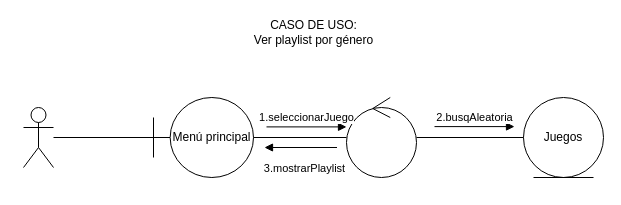
Some shapes in this 621 by 205 pixel diagram are drawn without their labels. Each missing label, with the centre of its shape:
Gestión juegos: point 381,137
Jugador: point 38,137
